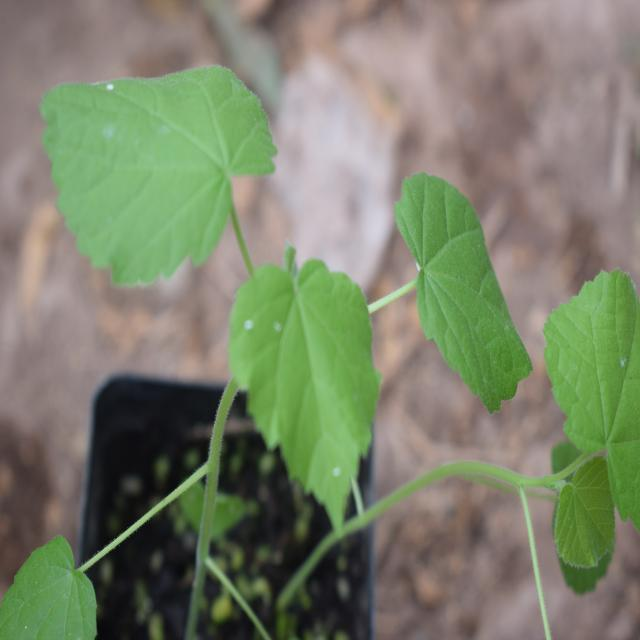abutilon theophrasti: (52, 60, 518, 488)
